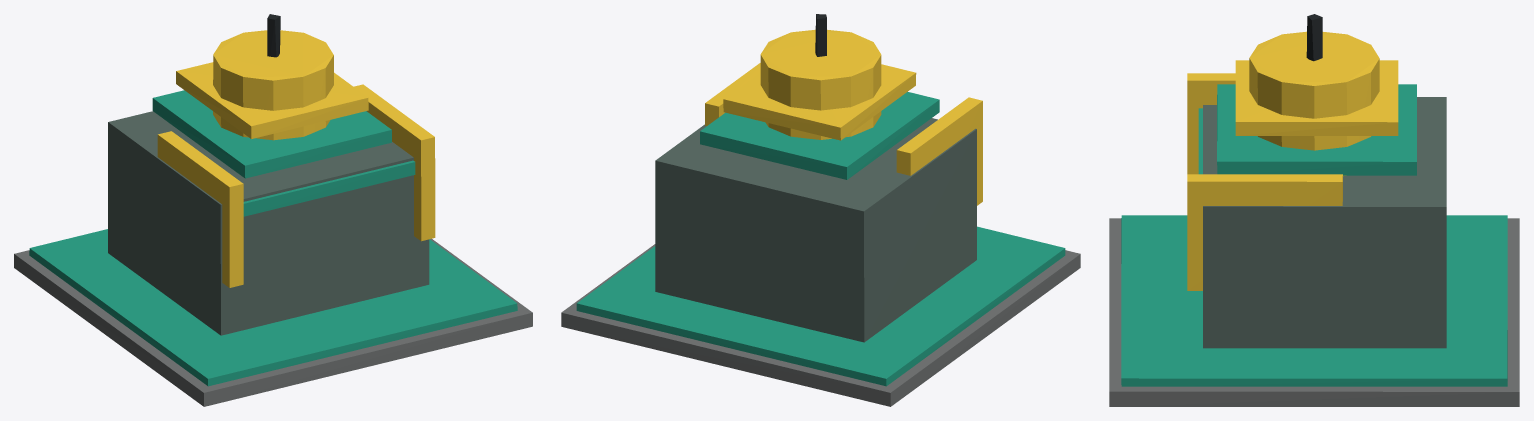
The model's file is SM_Coalition_CO_ConYard_LOD3.fbx.
The picture shows the model from 3 angles, left to right: view 1: azimuth 30°, elevation 25°; view 2: azimuth 150°, elevation 25°; view 3: azimuth 270°, elevation 25°; orthographic projection. The views are drawn at different scales.
Parts seen in each view (by area): view 1: LOD03_SM_Coalition_CO_ConYard; view 2: LOD03_SM_Coalition_CO_ConYard; view 3: LOD03_SM_Coalition_CO_ConYard.
Part boxes in pixels (x1,y1,x2,y2): LOD03_SM_Coalition_CO_ConYard: (14,14,532,406); LOD03_SM_Coalition_CO_ConYard: (561,14,1080,406); LOD03_SM_Coalition_CO_ConYard: (1109,14,1519,406).
Bounding box in the file's own units: 797 × 797 × 649.
